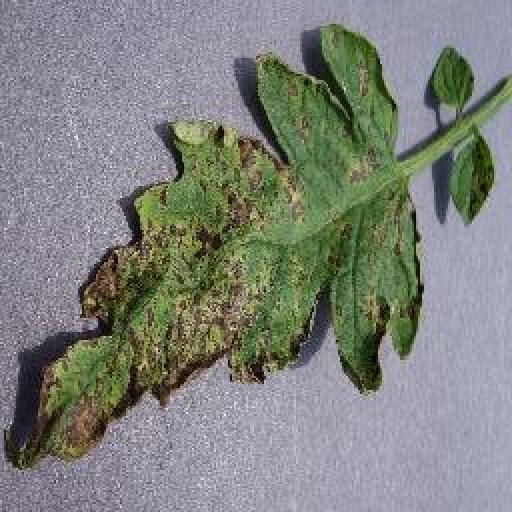disease_tomato: (14, 21, 420, 471)
